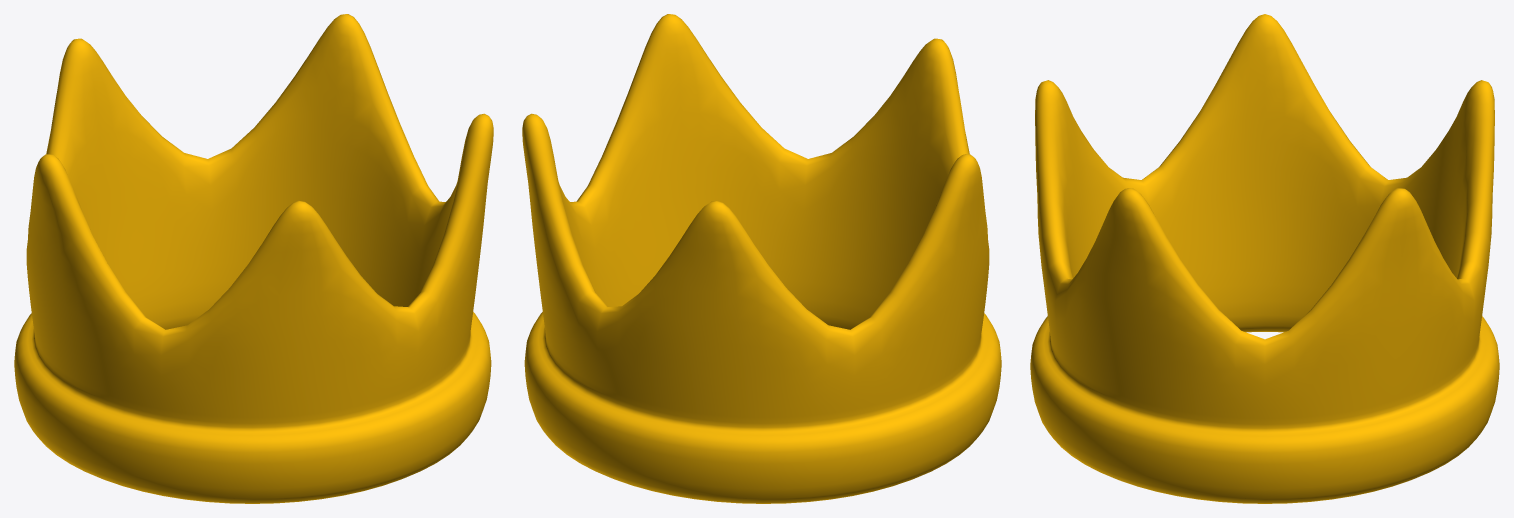
Rendered from crown.glb.
3 renders of one model, left to right at view 1: azimuth 30°, elevation 25°; view 2: azimuth 150°, elevation 25°; view 3: azimuth 270°, elevation 25°, orthographic.
Visible parts, largest first — view 1: Plane001; view 2: Plane001; view 3: Plane001.
Part boxes in pixels (<box>): Plane001: <box>14,14,493,503</box>; Plane001: <box>522,14,1001,503</box>; Plane001: <box>1030,14,1499,503</box>.
Size of the model in its own units: 0.1856 by 0.1303 by 0.183.
1 material, 1 textured.
